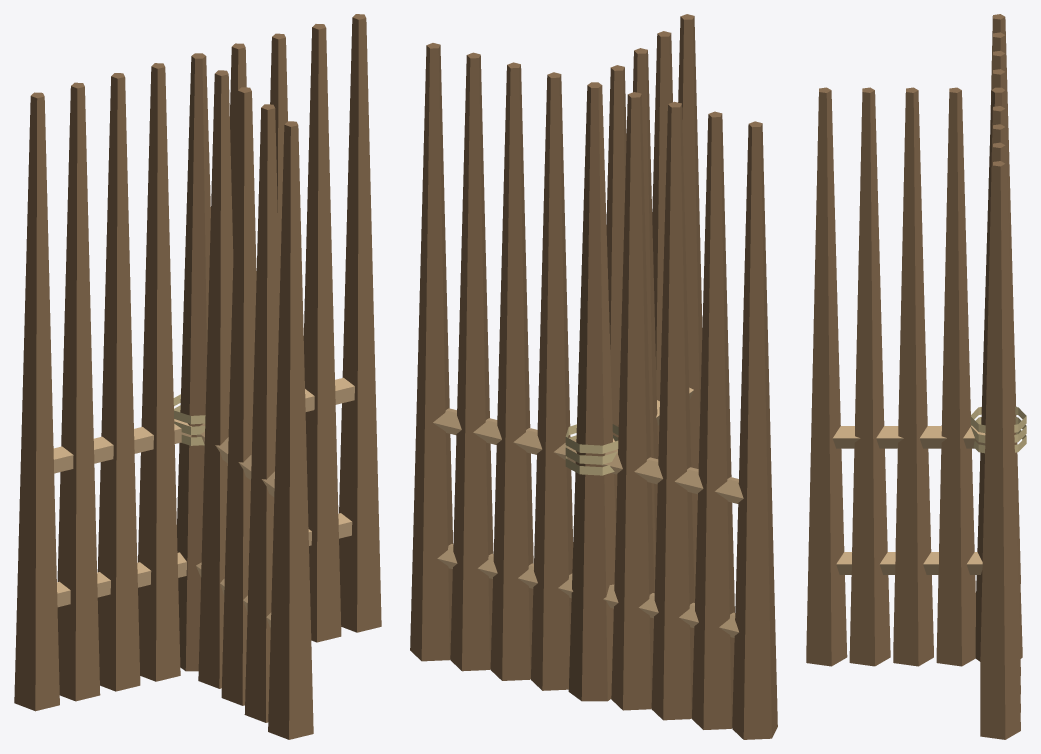
The model's file is palisade_0e.glb.
3 renders of one model, left to right at view 1: azimuth 30°, elevation 25°; view 2: azimuth 150°, elevation 25°; view 3: azimuth 270°, elevation 25°, orthographic. The views are drawn at different scales.
Visible parts, largest first — view 1: palisade_0e; view 2: palisade_0e; view 3: palisade_0e.
Boxes of the visible parts, x1=… form: palisade_0e: x1=14, y1=14, x2=381, y2=739; palisade_0e: x1=410, y1=14, x2=777, y2=739; palisade_0e: x1=806, y1=14, x2=1026, y2=739.
Bounding box in the file's own units: 1.12 × 1.8 × 0.6336.
